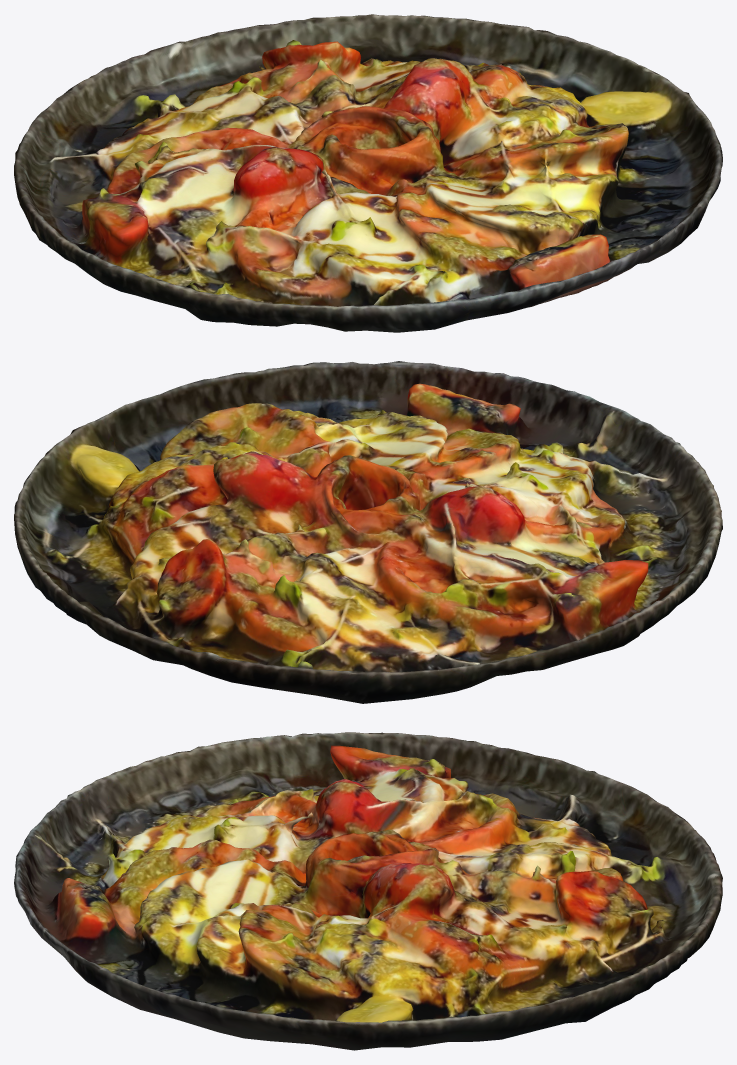
File: salade-caprese.glb
3 views of the same model, one above another, from view 1: azimuth 30°, elevation 25°; view 2: azimuth 150°, elevation 25°; view 3: azimuth 270°, elevation 25° (orthographic).
Visible parts, largest first — view 1: /ObjectCapture/Geometry/Mesh; view 2: /ObjectCapture/Geometry/Mesh; view 3: /ObjectCapture/Geometry/Mesh.
Boxes of the visible parts, left/top/right/bottom form: /ObjectCapture/Geometry/Mesh: left=14, top=14, right=722, bottom=332; /ObjectCapture/Geometry/Mesh: left=14, top=361, right=722, bottom=703; /ObjectCapture/Geometry/Mesh: left=14, top=732, right=722, bottom=1050.
Size of the model in its own units: 0.2755 by 0.0478 by 0.2756.
1 material, 1 textured.
